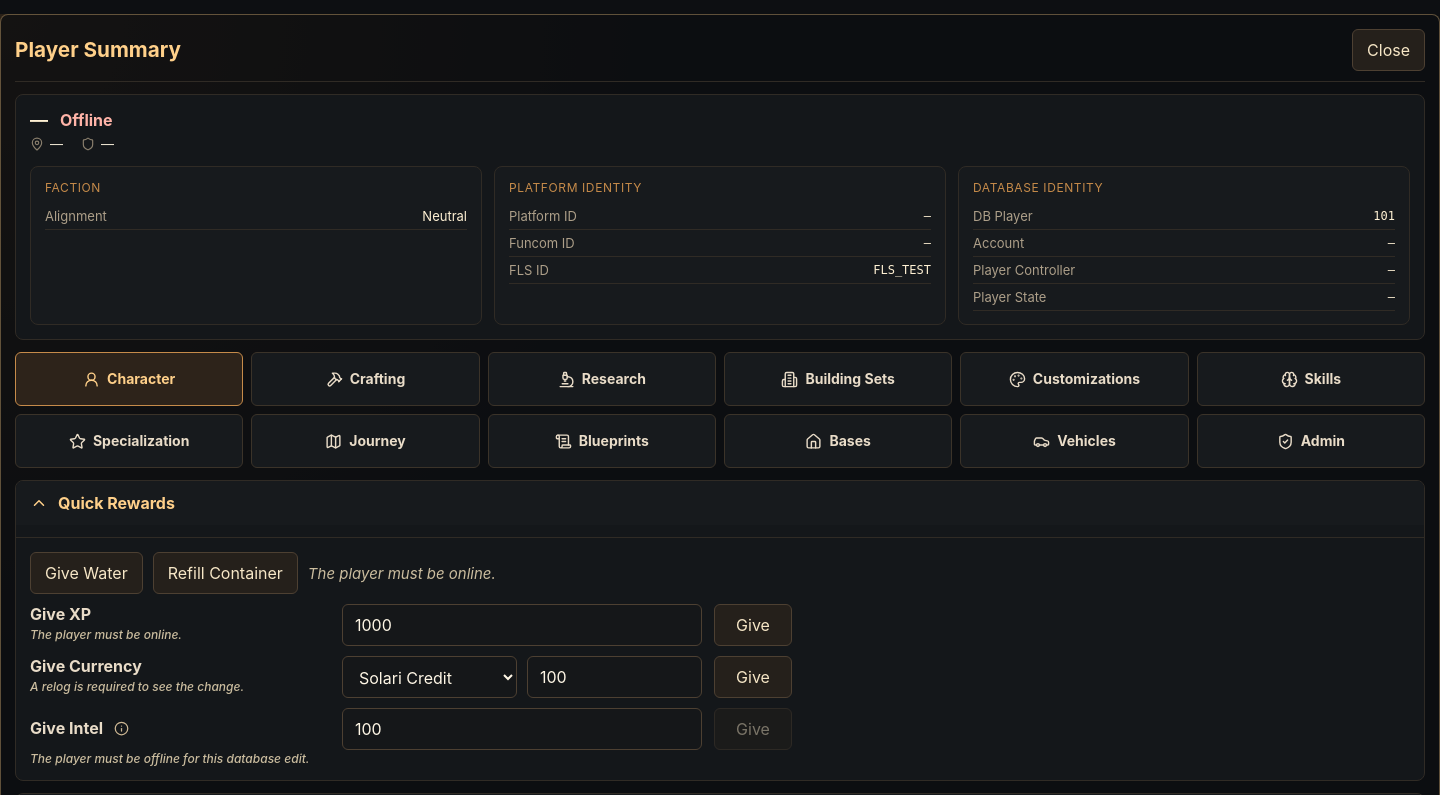
Test: CharacterAdminUI Tank catalog › replaces the standard spawning message with success when the task completes
Click the button "Admin" at (1311, 441), box [1197, 414, 1425, 468]
(page scrolled)
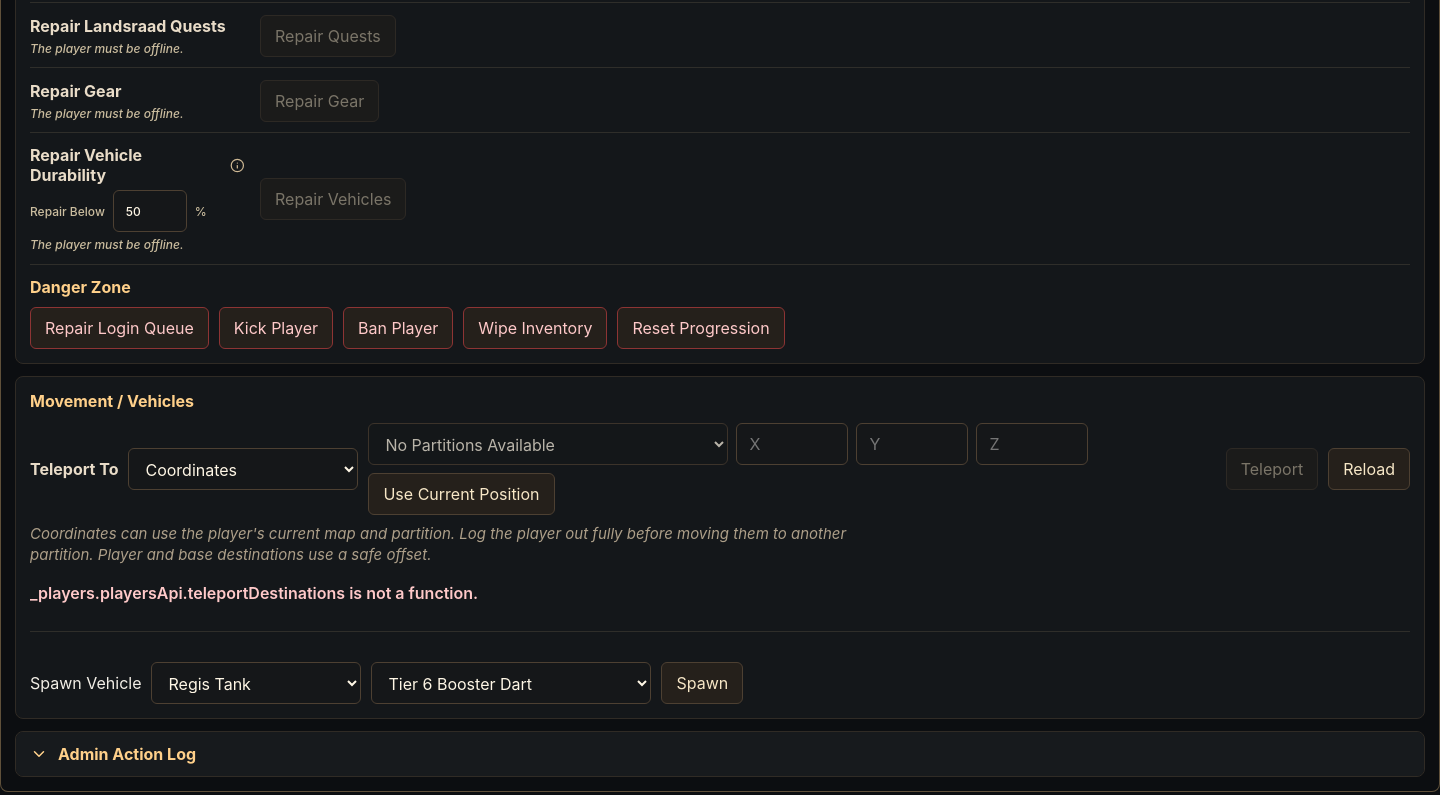
Click the button "Spawn" at (702, 683), box [662, 662, 743, 704]
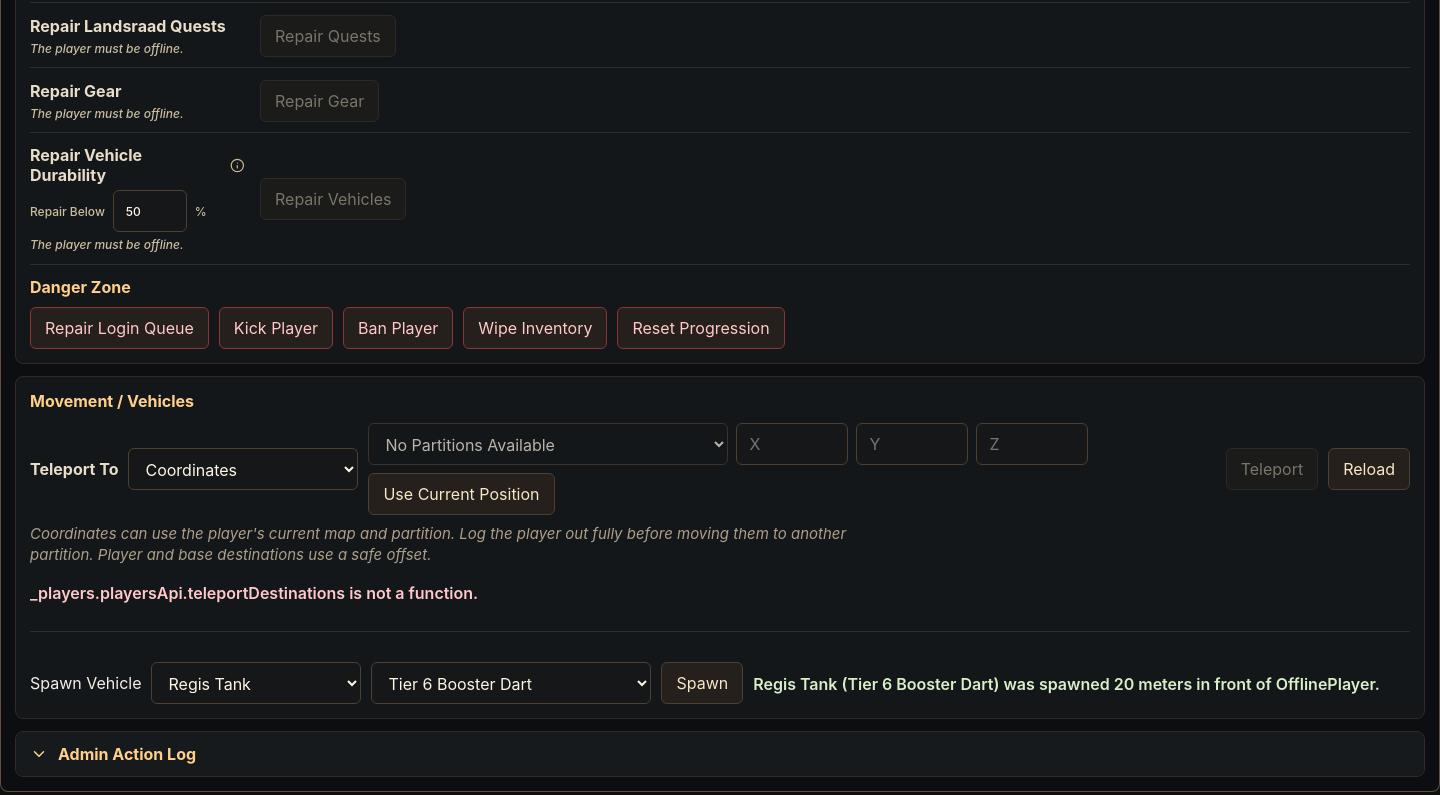
Now the button "Spawn" is enabled, box [662, 662, 743, 704]
Now the text "Regis Tank (Tier 6 Booster Dart) was spawned 20 meters in front of OfflinePlayer." is shown, box [753, 674, 1380, 694]
